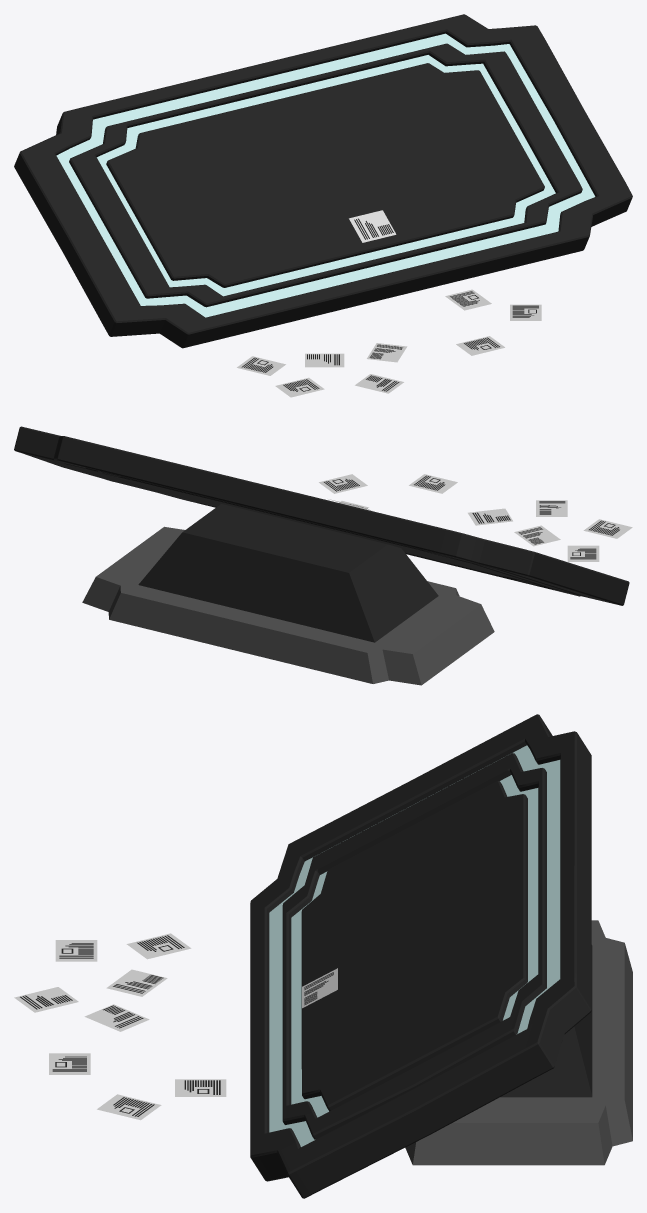
Rendered from Destroyed_big_table.fbx.
3 views of the same model, one above another, from view 1: azimuth 30°, elevation 25°; view 2: azimuth 150°, elevation 25°; view 3: azimuth 270°, elevation 25° (orthographic). The views are drawn at different scales.
Parts seen in each view (by area): view 1: polySurface725, polySurface704, polySurface705, polySurface711, pCube126, pCube118, pCube121, pCube123, pCube119, pCube124, pCube120, pCube125 (+1 smaller); view 2: polySurface724, polySurface856, polySurface704, polySurface725, polySurface711, pCube121, pCube120, pCube125, pCube122, pCube119, pCube118, pCube123; view 3: polySurface725, polySurface704, polySurface856, polySurface711, polySurface705, polySurface724, pCube119, pCube122, pCube121, pCube120, pCube123, pCube118 (+3 smaller).
Part boxes in pixels (bbox=[...]): polySurface725: bbox=[106, 63, 544, 287]; polySurface704: bbox=[14, 14, 632, 348]; polySurface705: bbox=[56, 33, 595, 317]; polySurface711: bbox=[69, 43, 582, 307]; pCube126: bbox=[349, 210, 396, 242]; pCube118: bbox=[305, 353, 344, 367]; pCube121: bbox=[237, 356, 285, 375]; pCube123: bbox=[355, 374, 403, 393]; pCube119: bbox=[275, 377, 324, 397]; pCube124: bbox=[445, 289, 491, 310]; pCube120: bbox=[367, 343, 407, 362]; pCube125: bbox=[456, 336, 504, 355]; polySurface724: bbox=[138, 504, 438, 642]; polySurface856: bbox=[82, 526, 494, 685]; polySurface704: bbox=[14, 426, 629, 605]; polySurface725: bbox=[102, 473, 535, 583]; polySurface711: bbox=[64, 463, 572, 592]; pCube121: bbox=[567, 545, 599, 561]; pCube120: bbox=[468, 508, 512, 525]; pCube125: bbox=[409, 474, 457, 493]; pCube122: bbox=[319, 474, 367, 493]; pCube119: bbox=[583, 519, 632, 538]; pCube118: bbox=[514, 525, 560, 546]; pCube123: bbox=[536, 500, 567, 516]; polySurface725: bbox=[301, 781, 527, 1111]; polySurface704: bbox=[250, 714, 591, 1198]; polySurface856: bbox=[405, 920, 632, 1165]; polySurface711: bbox=[282, 753, 546, 1139]; polySurface705: bbox=[269, 745, 560, 1146]; polySurface724: bbox=[500, 945, 592, 1097]; pCube119: bbox=[55, 940, 97, 961]; pCube122: bbox=[97, 1094, 161, 1120]; pCube121: bbox=[126, 933, 191, 959]; pCube120: bbox=[84, 1004, 149, 1031]; pCube123: bbox=[14, 987, 78, 1012]; pCube118: bbox=[106, 969, 167, 996].
Bounding box in the file's own units: 13.33 × 3.73 × 10.56.
